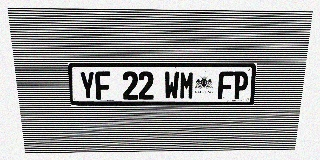2: (122, 71, 138, 100), (138, 71, 153, 100)
F: (95, 71, 111, 100), (218, 71, 234, 99)
M: (179, 71, 195, 99)
P: (232, 71, 249, 99)
W: (164, 71, 179, 99)
Y: (79, 71, 96, 100)
